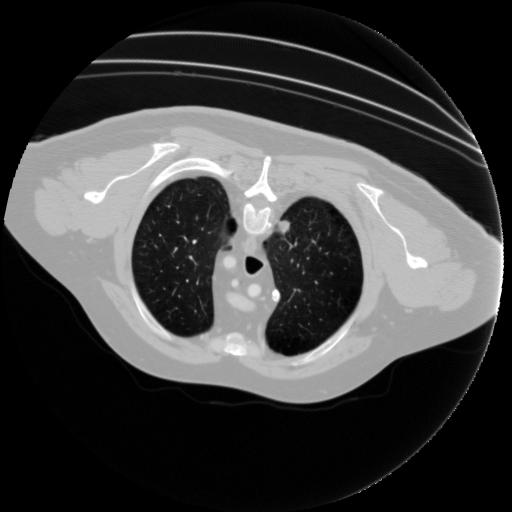nodule: (275, 216, 296, 237)
